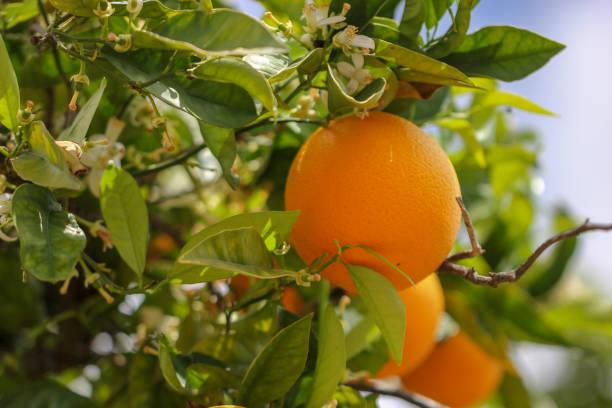orange: (269, 111, 466, 306)
